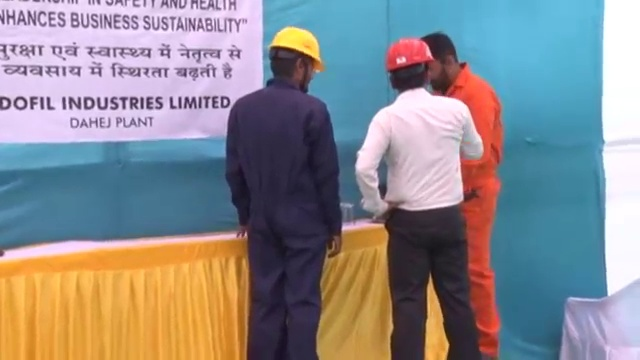helmet: (268, 24, 324, 72), (383, 37, 436, 73)
helmet_off: (426, 31, 458, 90)
helmet_on: (267, 23, 325, 92), (383, 34, 435, 100)
person: (354, 36, 485, 360), (222, 24, 342, 360), (422, 33, 505, 359)
